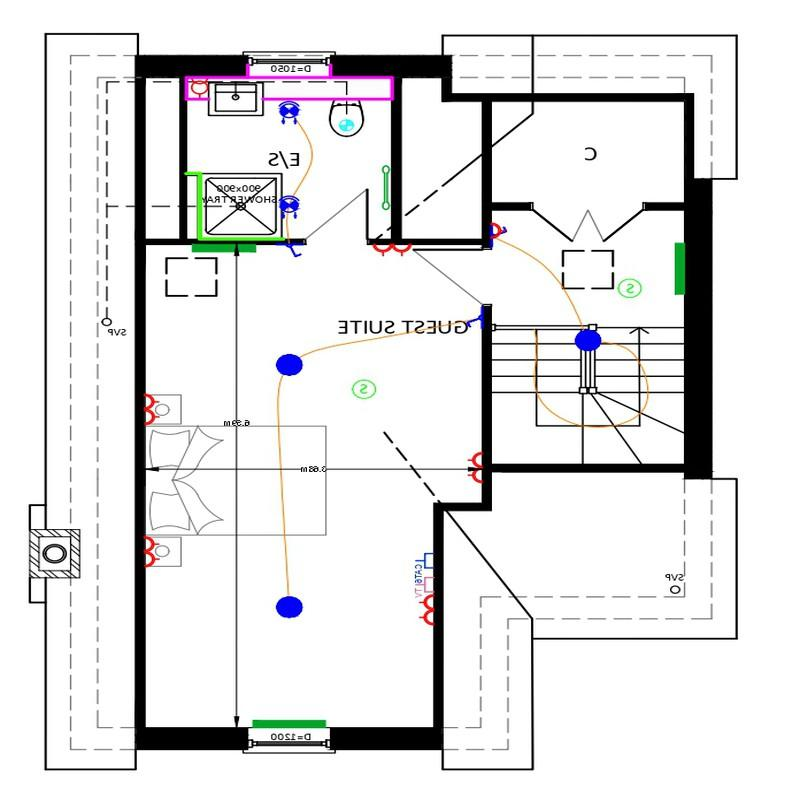Cat 6 Data Socket: (403, 552, 436, 573)
Ceiling Mounted Continuous Extract Fan With Boost Mode Activated By Light Switch: (331, 111, 359, 136)
Co-Ax TV Socket: (399, 575, 434, 594)
Double Socket: (142, 389, 165, 434), (460, 451, 484, 489), (144, 529, 161, 576), (408, 593, 436, 621), (368, 242, 414, 256)
Full Height Tiling: (186, 165, 285, 242)
Light Switch: (491, 225, 514, 244), (282, 242, 304, 260)
Low Energy Downlighter: (270, 94, 307, 130), (275, 188, 306, 224)
Low Energy Pendant Light: (267, 579, 317, 620), (572, 323, 608, 358), (273, 348, 307, 381)
Mains Wired Smoke Detector: (345, 369, 383, 404), (615, 268, 645, 304)
Radiator: (180, 240, 259, 258), (667, 235, 686, 306), (245, 715, 331, 730)
Shaver Socket: (185, 75, 212, 103)
Single Socket: (491, 220, 512, 242)
